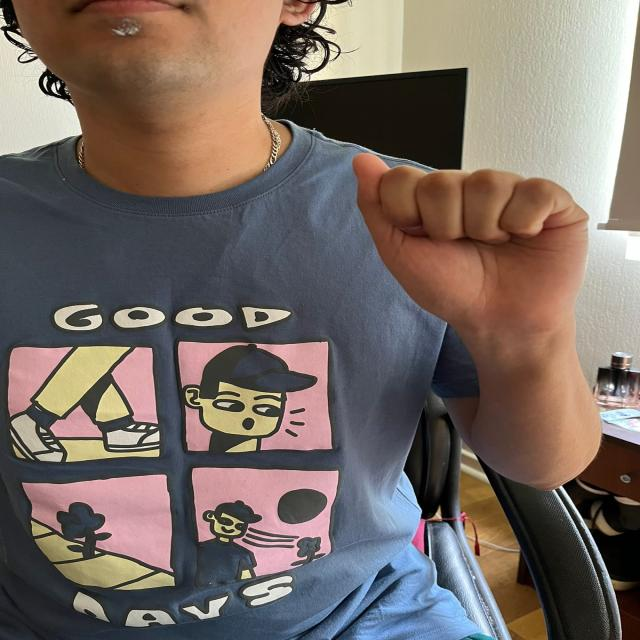A: (344, 149, 600, 321)
